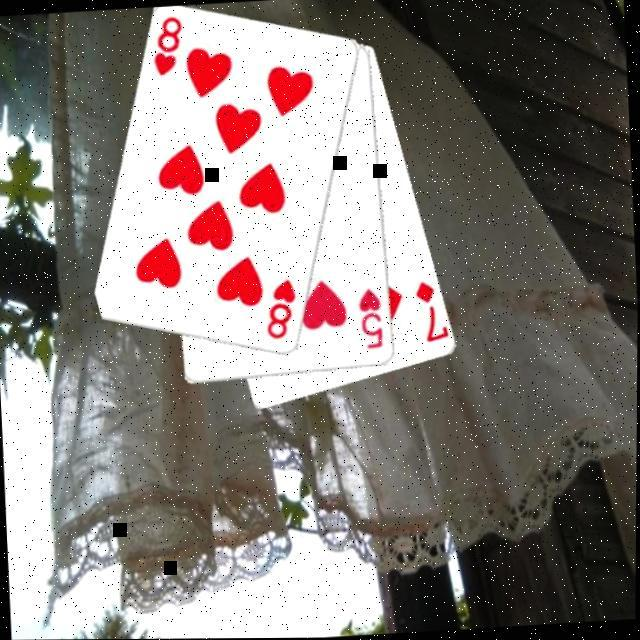5H: (356, 284, 386, 352)
7D: (412, 276, 449, 346)
8H: (262, 276, 300, 343), (148, 12, 186, 79)
